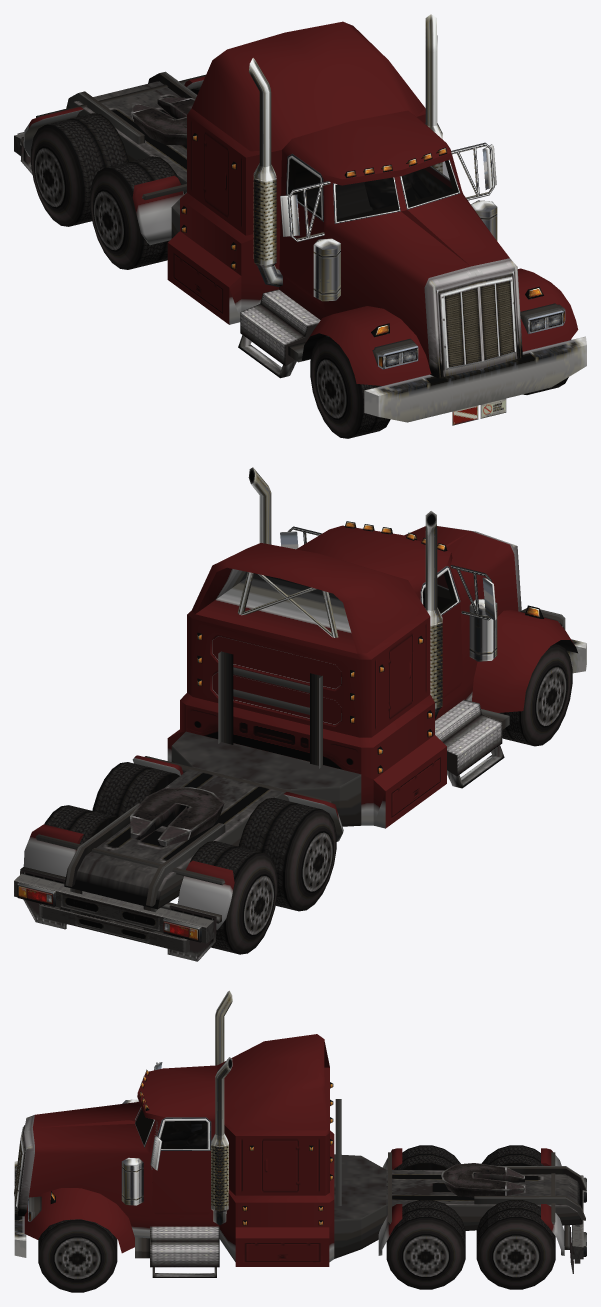
Rendered from longnose_cab_traffic_burnout_3.glb.
The picture shows the model from 3 angles, top to bottom: view 1: azimuth 30°, elevation 25°; view 2: azimuth 150°, elevation 25°; view 3: azimuth 270°, elevation 25°; orthographic projection. The views are drawn at different scales.
Parts seen in each view (by area): view 1: Car23_Body_0000_0000, Car23_Body_Part_0002_0000, Car23_Wheel_0004_0000, Car23_Wheel_0002_0000, Car23_Wheel_0000_0000, Car23_Body_0000_0005, Car23_Body_0000_0001, Car23_Body_Part_0001_0000, Car23_Body_Part_0001_0002, Car23_Body_0000_0002, Car23_Body_Part_0000_0001; view 2: Car23_Body_0000_0000, Car23_Body_Part_0003_0000, Car23_Wheel_0002_0000, Car23_Wheel_0004_0000, Car23_Wheel_0000_0000, Car23_Body_0000_0001, Car23_Wheel_0003_0000, Car23_Body_Part_0001_0000, Car23_Wheel_0005_0000, Car23_Body_0000_0002, Car23_Body_Part_0001_0002; view 3: Car23_Body_0000_0000, Car23_Wheel_0005_0000, Car23_Wheel_0003_0000, Car23_Wheel_0001_0000, Car23_Body_Part_0000_0000, Car23_Body_0000_0001, Car23_Body_Part_0000_0002, Car23_Wheel_0002_0000, Car23_Wheel_0004_0000, Car23_Body_Part_0003_0000, Car23_Body_Part_0002_0000, Car23_Body_Part_0001_0001 (+1 smaller).
Boxes of the visible parts, x1,y1,x2,y2 form: Car23_Body_0000_0000: (23,14,578,385); Car23_Body_Part_0002_0000: (364,336,586,425); Car23_Wheel_0004_0000: (31,113,128,226); Car23_Wheel_0002_0000: (90,156,184,269); Car23_Wheel_0000_0000: (310,336,390,438); Car23_Body_0000_0005: (335,160,458,221); Car23_Body_0000_0001: (294,162,432,362); Car23_Body_Part_0001_0000: (284,153,323,303); Car23_Body_Part_0001_0002: (288,158,321,216); Car23_Body_0000_0002: (181,133,447,269); Car23_Body_Part_0000_0001: (418,160,457,195); Car23_Body_0000_0000: (23,467,574,929); Car23_Body_Part_0003_0000: (14,867,221,961); Car23_Wheel_0002_0000: (238,797,336,911); Car23_Wheel_0004_0000: (177,841,277,954); Car23_Wheel_0000_0000: (499,643,572,746); Car23_Body_0000_0001: (218,593,577,768); Car23_Wheel_0003_0000: (92,762,179,817); Car23_Body_Part_0001_0000: (420,566,462,698); Car23_Wheel_0005_0000: (44,805,117,844); Car23_Body_0000_0002: (197,521,447,773); Car23_Body_Part_0001_0002: (423,570,456,613); Car23_Body_0000_0000: (14,990,585,1277); Car23_Wheel_0005_0000: (476,1200,555,1289); Car23_Wheel_0003_0000: (386,1200,465,1289); Car23_Wheel_0001_0000: (38,1219,117,1292); Car23_Body_Part_0000_0000: (152,1117,211,1214); Car23_Body_0000_0001: (160,1099,341,1205); Car23_Body_Part_0000_0002: (160,1121,207,1148); Car23_Wheel_0002_0000: (394,1145,460,1170); Car23_Wheel_0004_0000: (481,1145,544,1165); Car23_Body_Part_0003_0000: (564,1175,586,1273); Car23_Body_Part_0002_0000: (14,1161,26,1257); Car23_Body_Part_0001_0001: (152,1119,191,1148).
Size of the model in its own units: 0.0267 by 0.0341 by 0.0771.
Materials: 2 (1 with a texture image).
